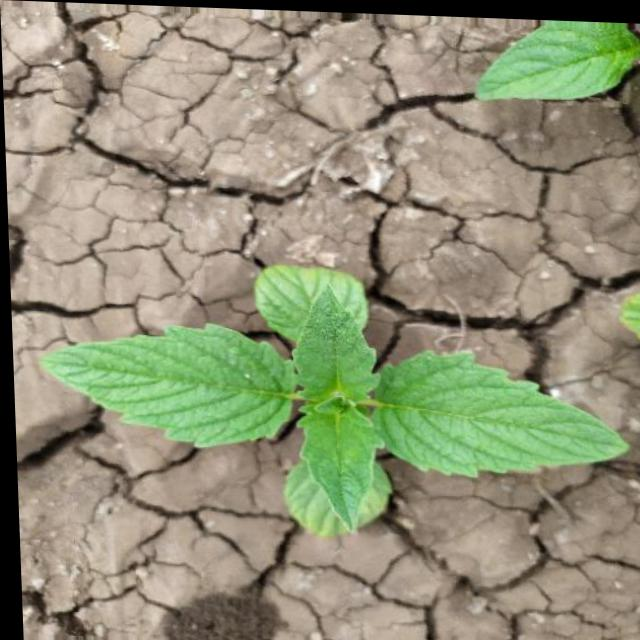crop: (27, 252, 636, 547)
